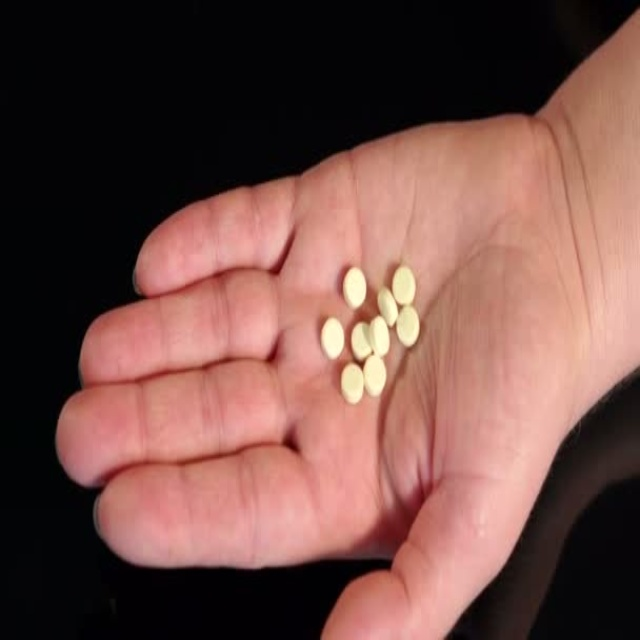pill: (324, 142, 349, 165), (375, 164, 400, 185), (304, 170, 327, 192), (324, 193, 346, 216), (372, 142, 395, 164), (346, 188, 367, 212), (332, 171, 353, 193), (358, 152, 378, 175), (352, 169, 370, 191)
